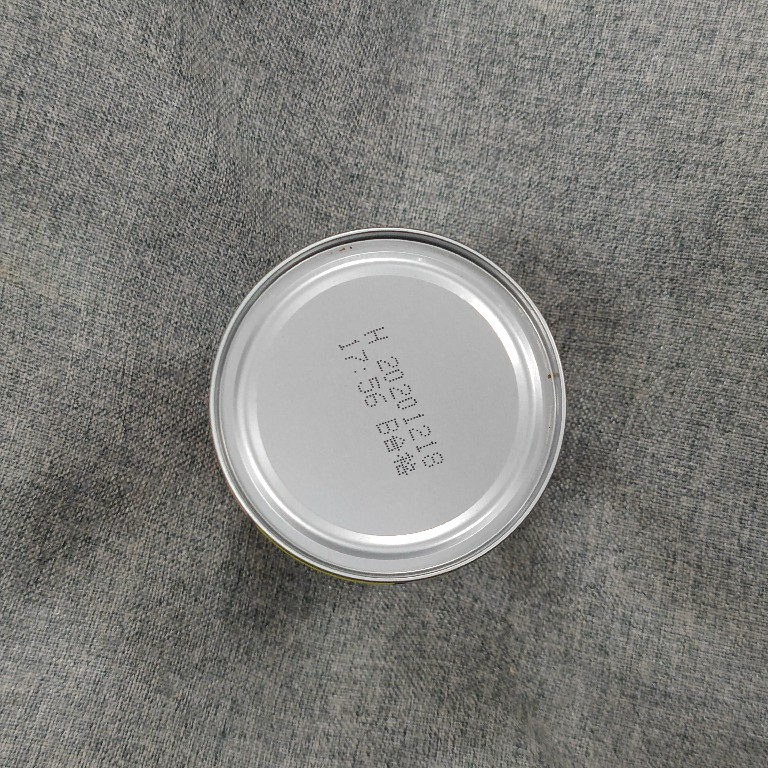can: (199, 219, 572, 587)
